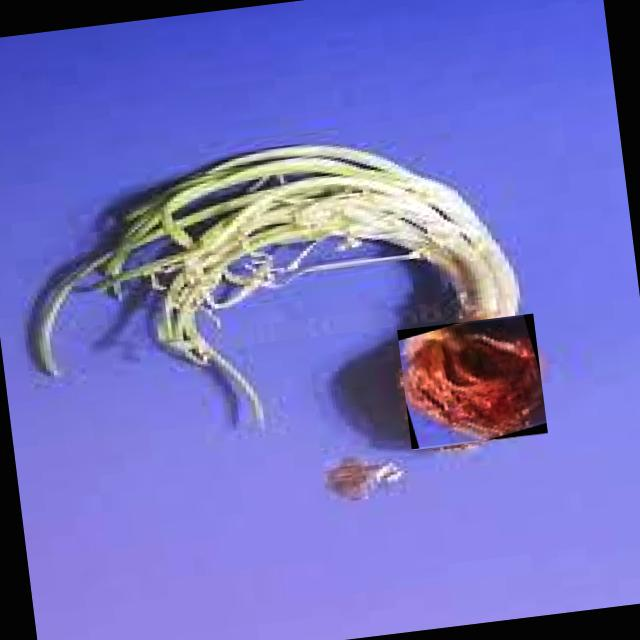rotten: (402, 325, 542, 439)
